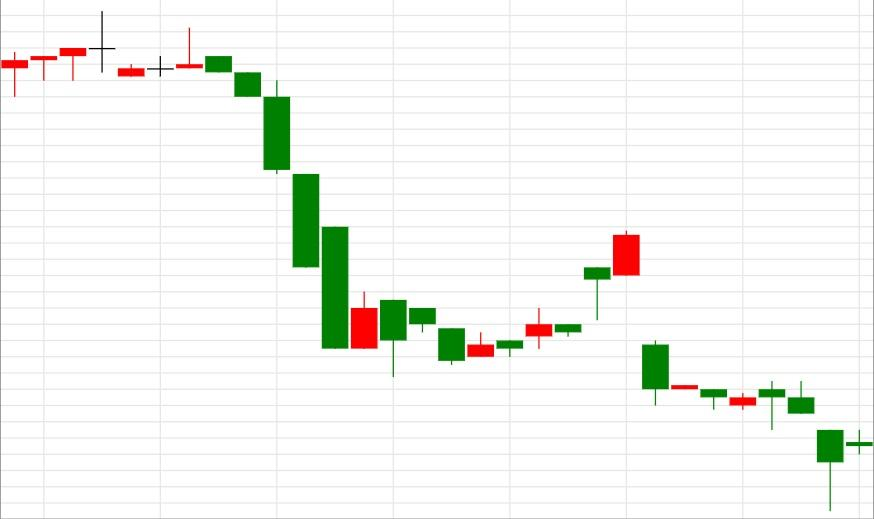three_black_crows_fall: (117, 27, 291, 175)
